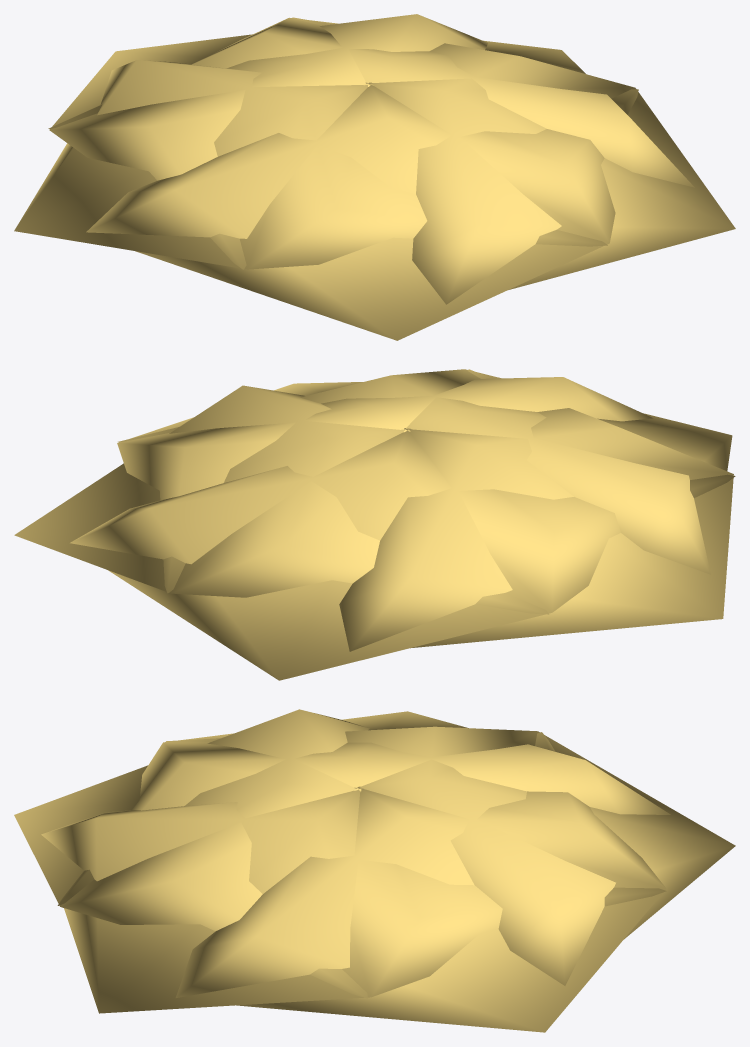
Rendered from shima.obj.
The picture shows the model from 3 angles, top to bottom: view 1: azimuth 30°, elevation 25°; view 2: azimuth 150°, elevation 25°; view 3: azimuth 270°, elevation 25°; orthographic projection. The views are drawn at different scales.
Parts seen in each view (by area): view 1: s.0023; view 2: s.0023; view 3: s.0023.
Boxes of the visible parts, <box> form: s.0023: <box>14,14,735,340</box>; s.0023: <box>14,369,735,680</box>; s.0023: <box>14,709,735,1032</box>.
Size of the model in its own units: 725 by 122 by 733.
